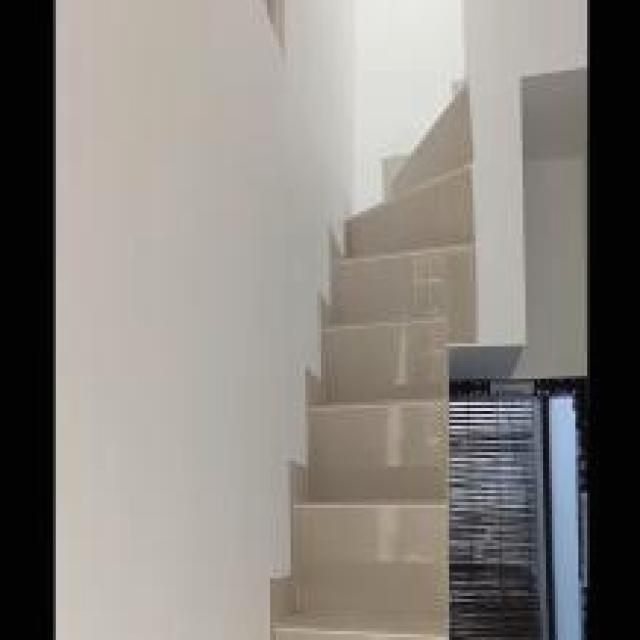upstair: (277, 244, 456, 640)
